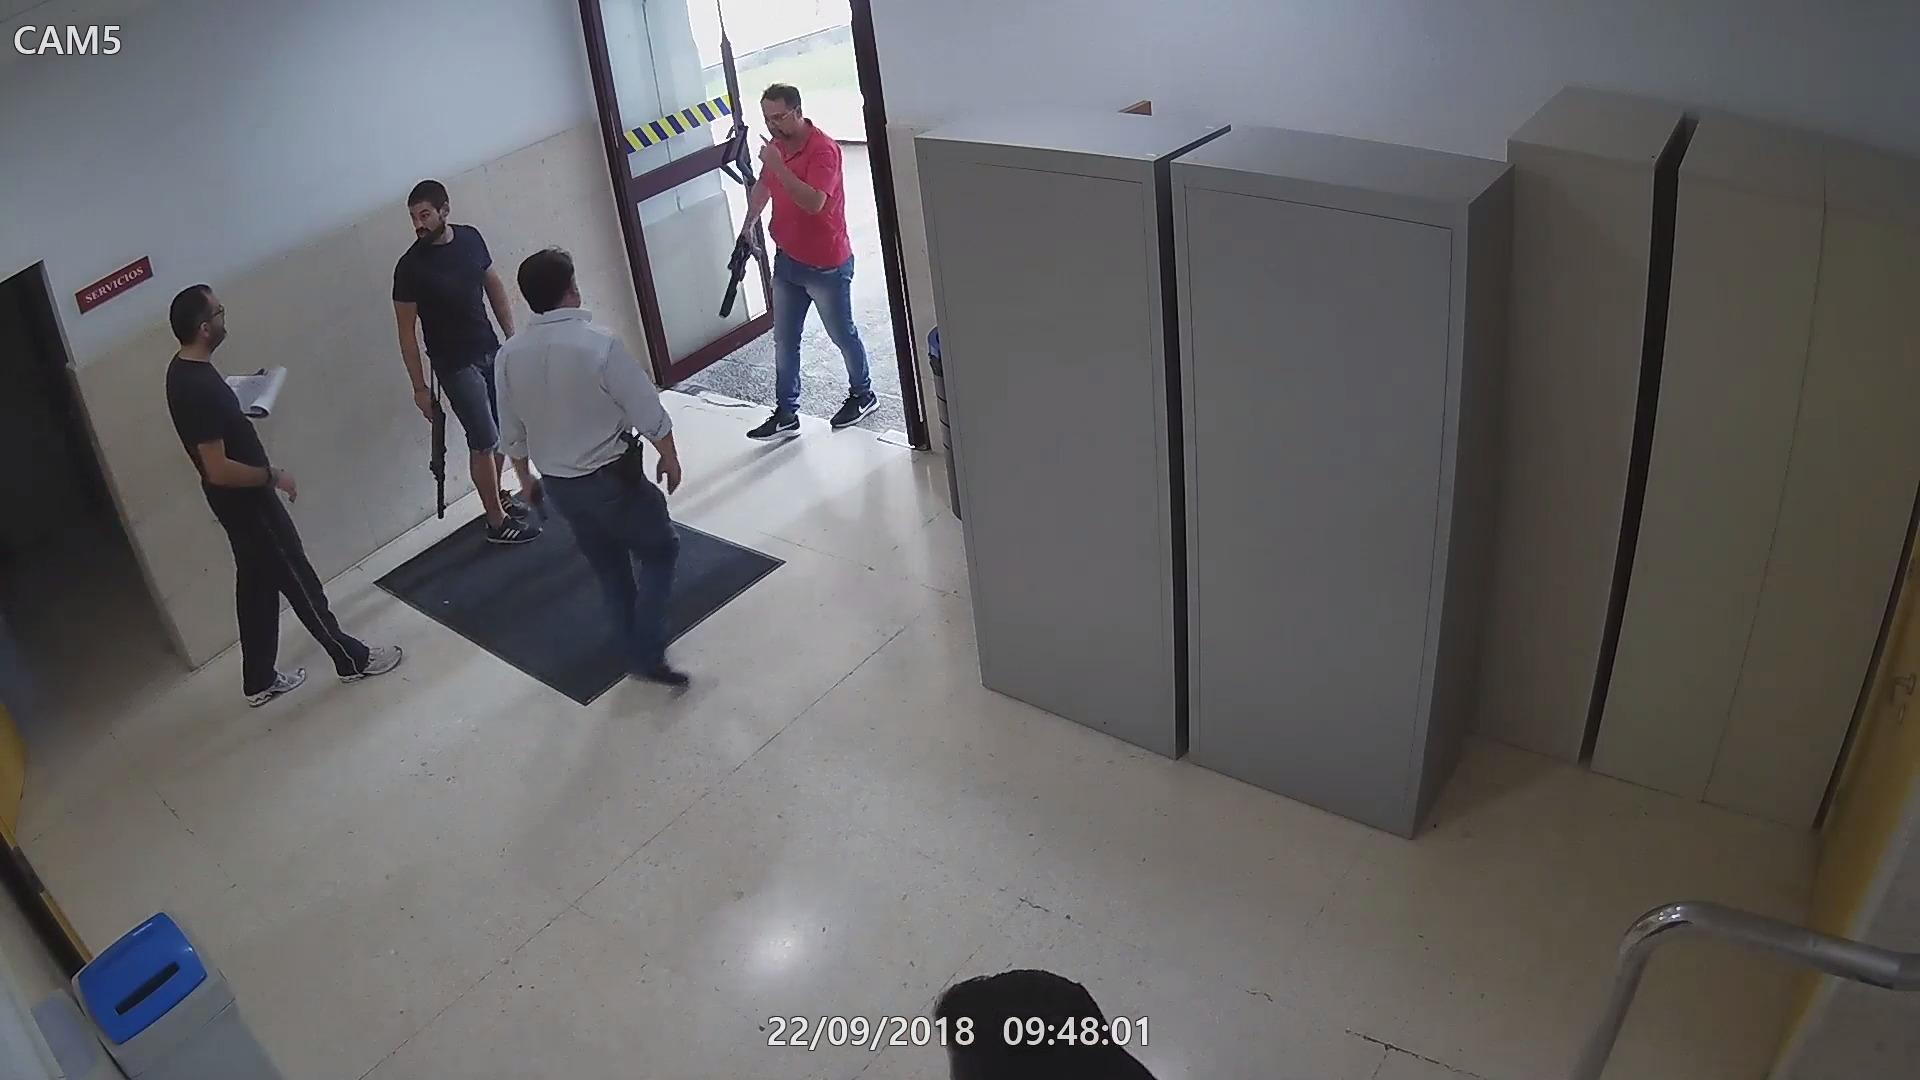Handgun: (521, 472, 551, 525)
